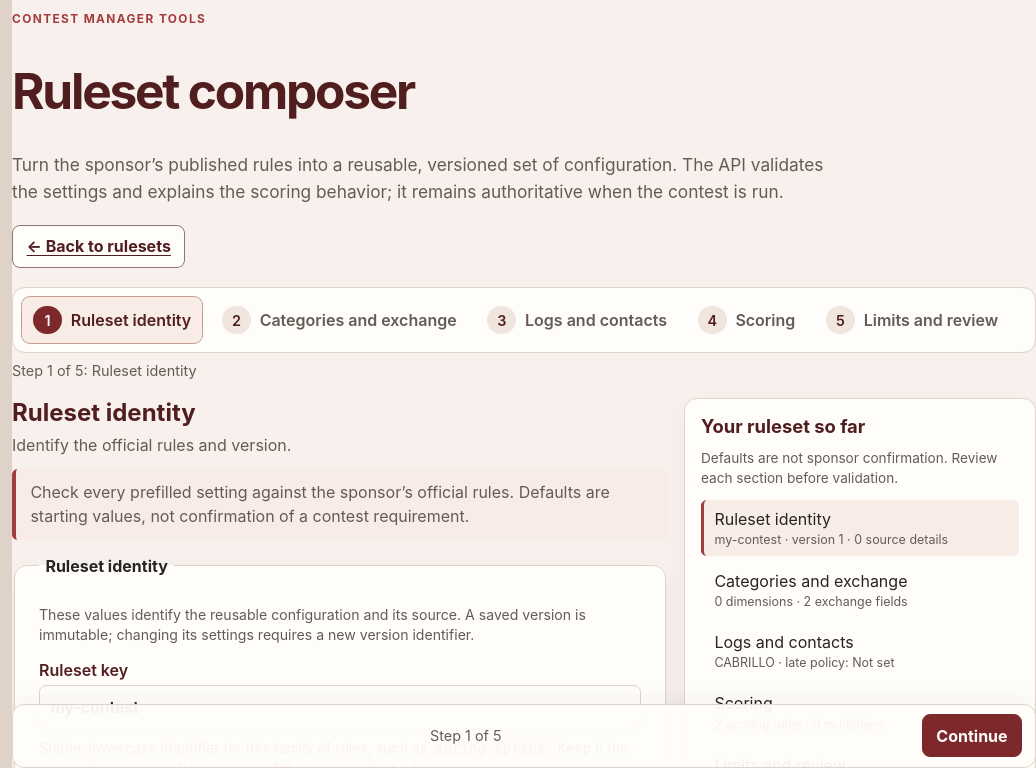
Test case: RulesetComposerView › groups required rules into task steps without losing them when navigating
What coordinates should you click on to do the following:
click the button "2 Categories and exchange"
I would click on:
 (339, 320)
Its box is left=210, top=296, right=469, bottom=344.
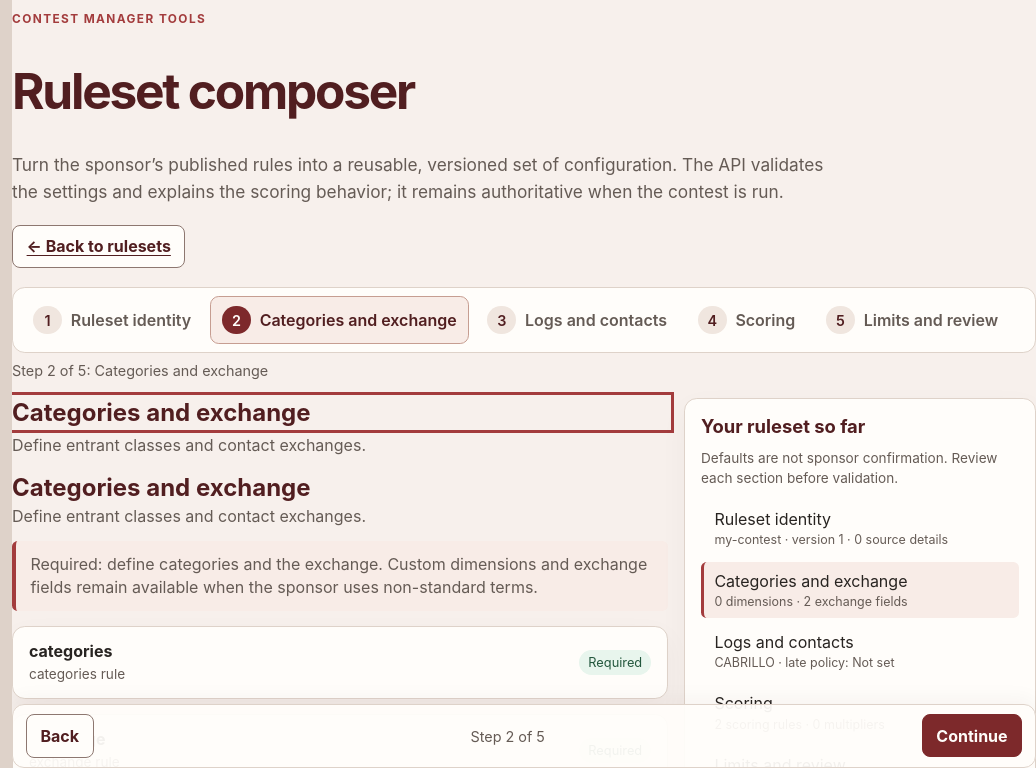
What coordinates should you click on to do the following:
click the button "3 Logs and contacts"
I would click on:
 (577, 320)
Its box is left=475, top=296, right=679, bottom=344.
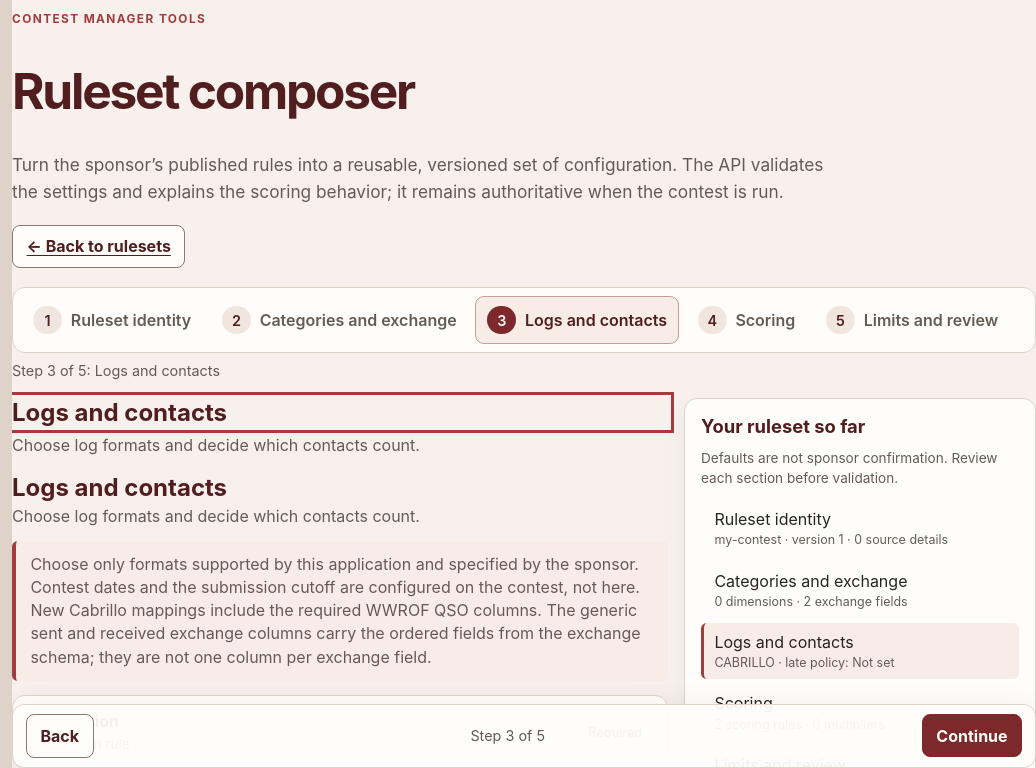
What coordinates should you click on to do the following:
click the button "4 Scoring"
I would click on:
 (747, 320)
Its box is left=686, top=296, right=808, bottom=344.
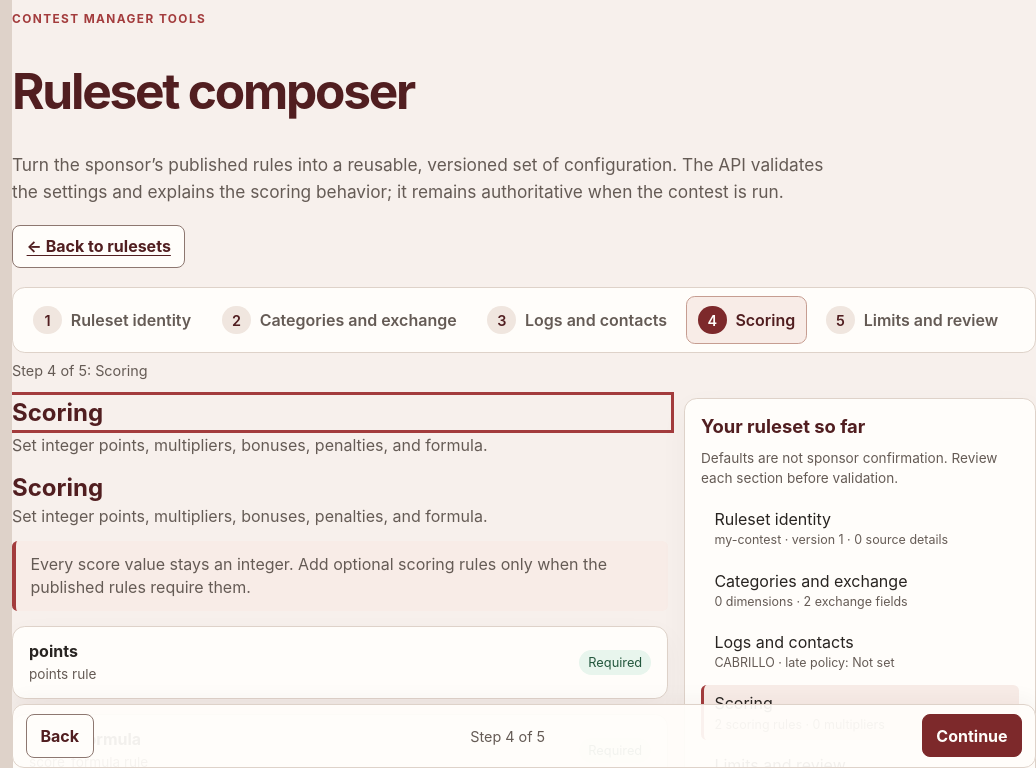
What coordinates should you click on to do the following:
click the button "5 Limits and review"
I would click on:
 (912, 320)
Its box is left=814, top=296, right=1010, bottom=344.
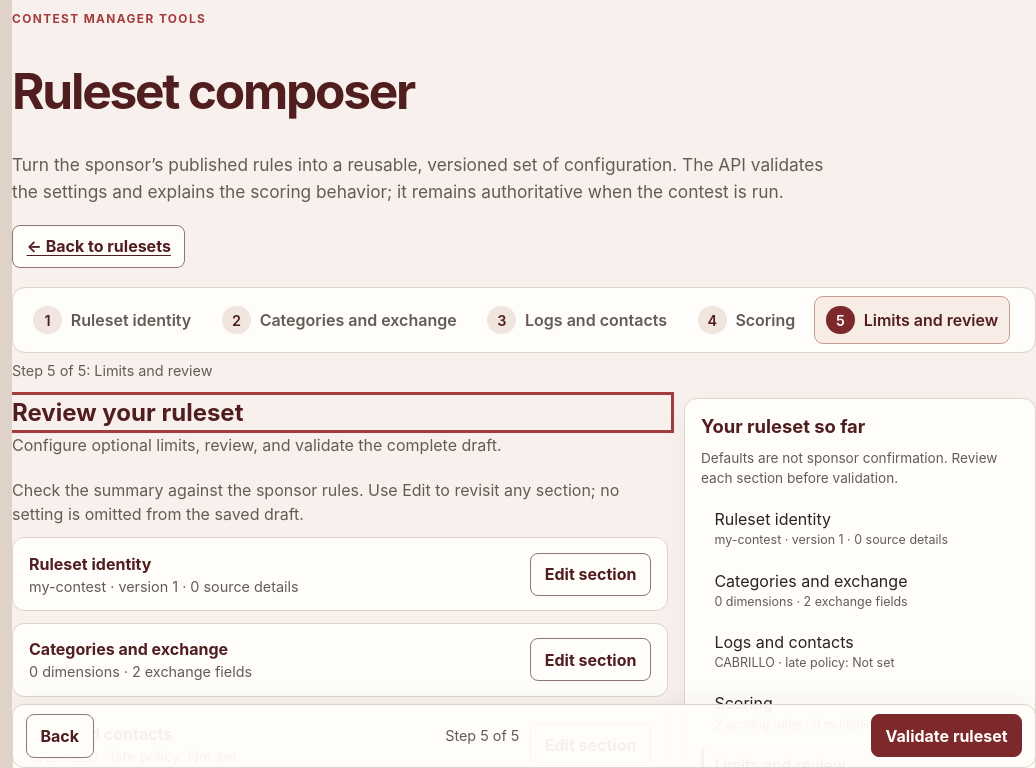
Expected: the number of elements with class "review-group" is 4
